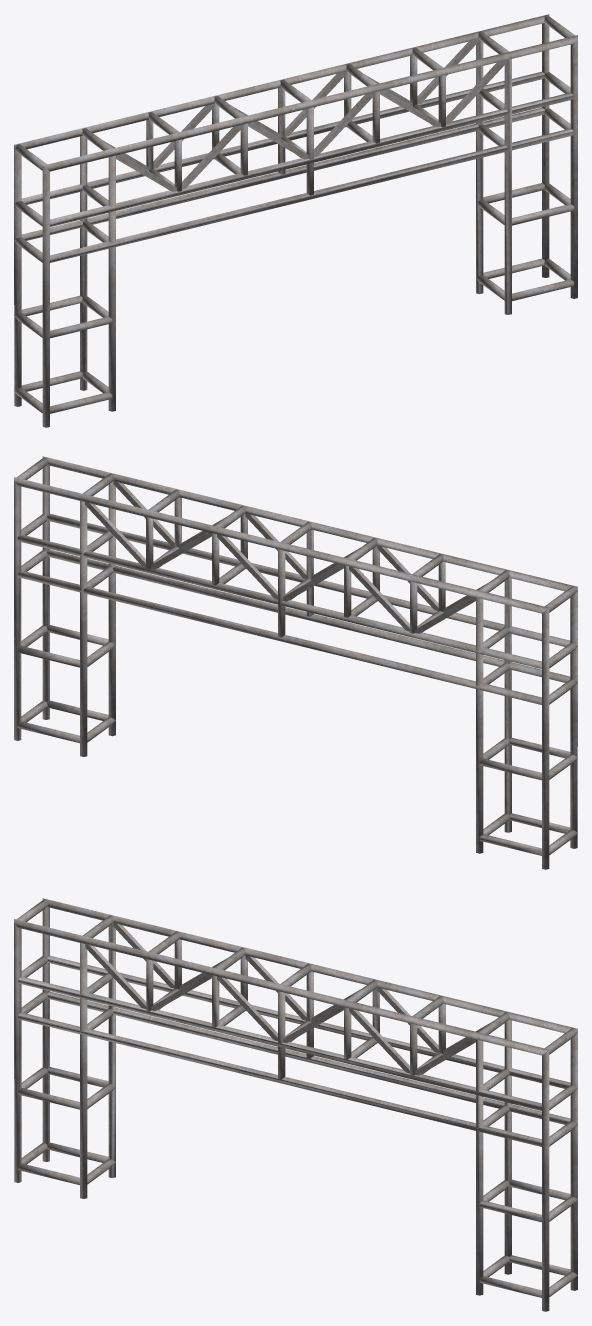
File: Prop_Tjz01.glb
3 views of the same model, one above another, from view 1: azimuth 30°, elevation 25°; view 2: azimuth 150°, elevation 25°; view 3: azimuth 330°, elevation 25° (orthographic).
Parts seen in each view (by area): view 1: xiutz_tjz_01; view 2: xiutz_tjz_01; view 3: xiutz_tjz_01.
Boxes of the visible parts, x1,y1,x2,y2 form: xiutz_tjz_01: (14, 14, 577, 427); xiutz_tjz_01: (14, 456, 577, 869); xiutz_tjz_01: (14, 898, 577, 1311).
Bounding box in the file's own units: 30.5 × 14.22 × 3.18.
1 material, 1 textured.
